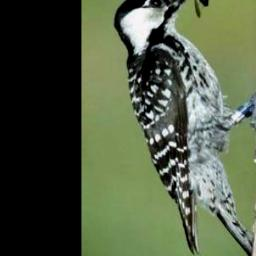Woodpecker: (115, 0, 256, 254)
